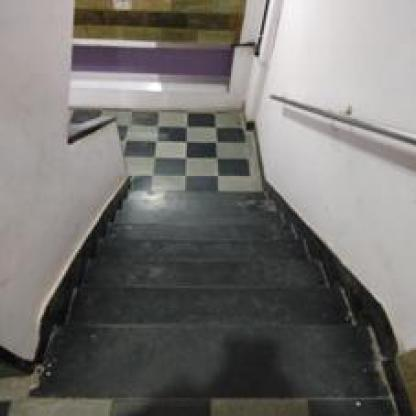stair_down: (51, 266, 358, 372)
